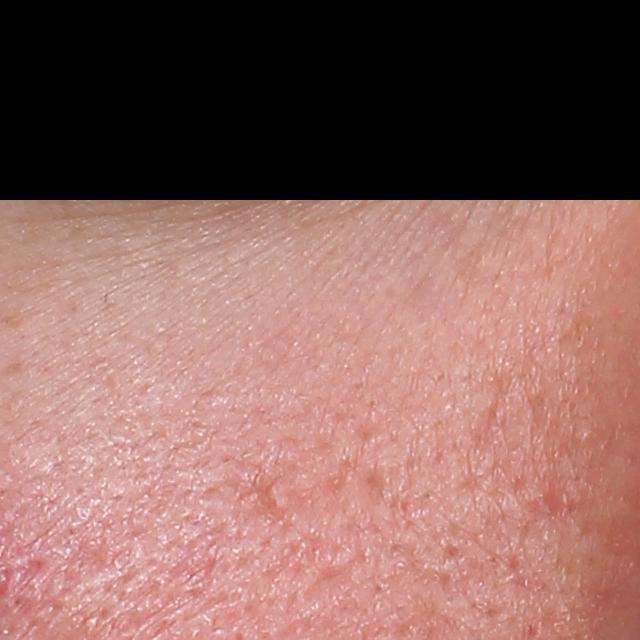comedo: (262, 477, 293, 513)
